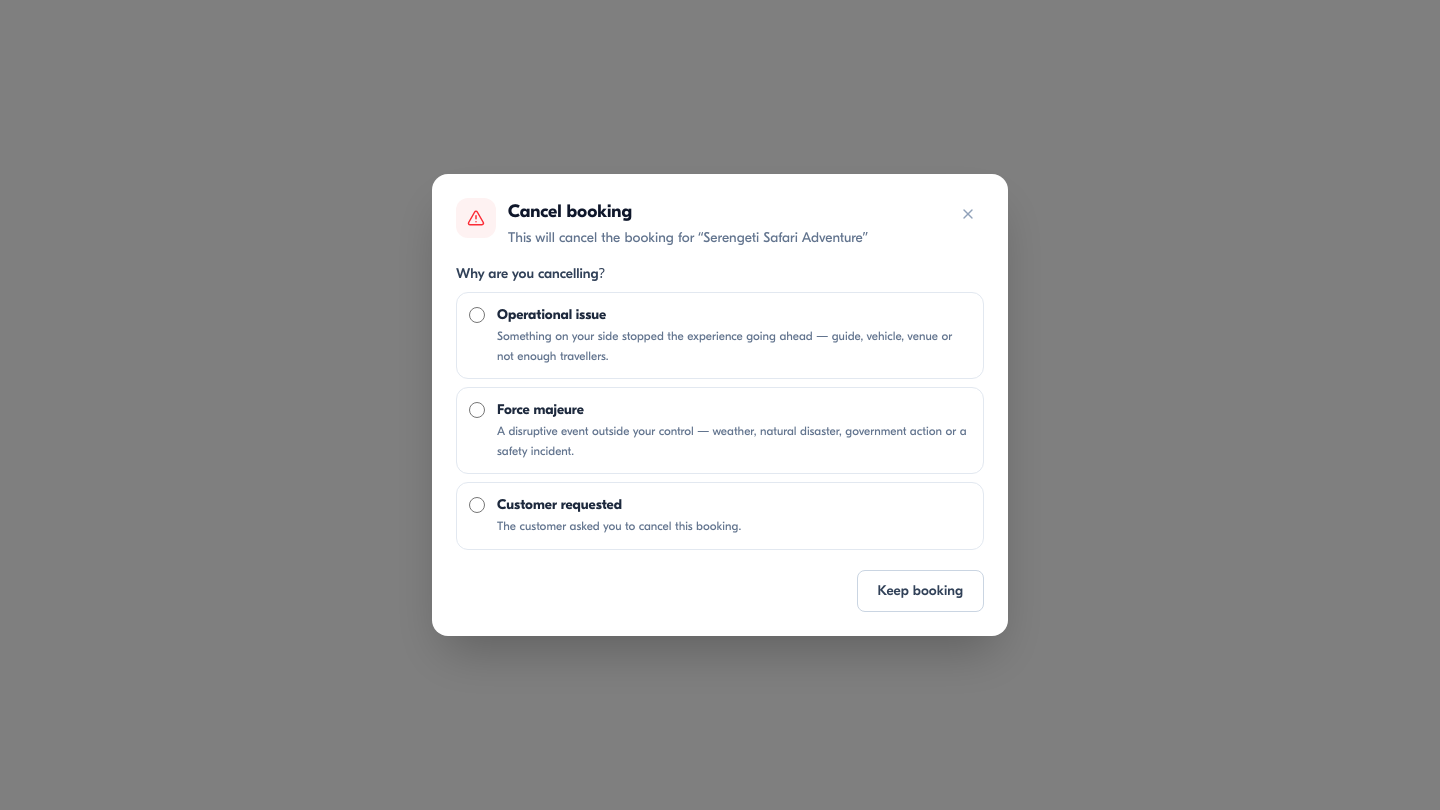
CancelBookingModal — request vs executed › shows the explicit 'submitted for review' screen when the cancel is parked
Expected: the text "Operational issue" is shown, 497,306 -> 606,323
Click the radio button labelled "Operational issue": (477, 315) 469,307 -> 485,323
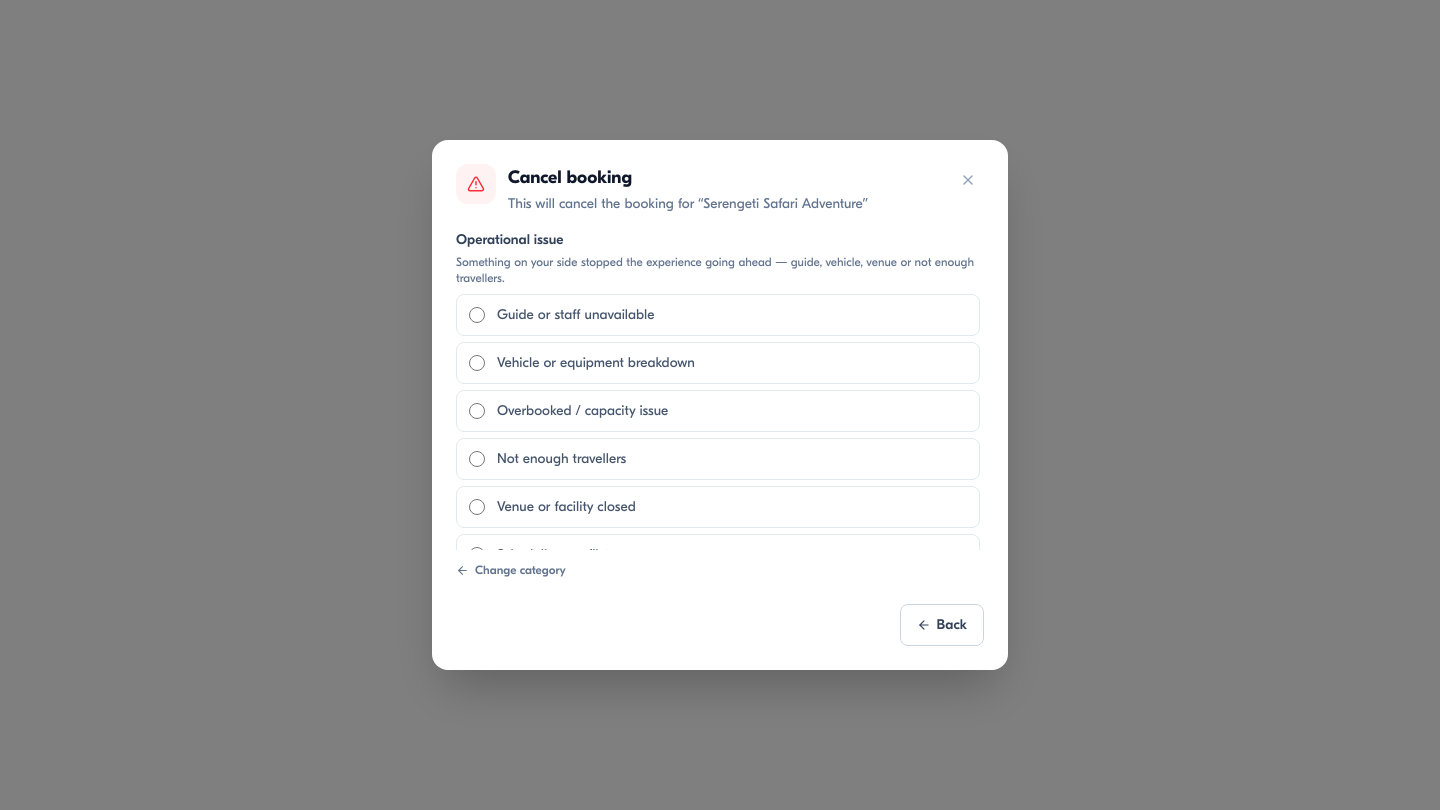
Click the radio button labelled "Guide or staff unavailable": (477, 315) 469,307 -> 485,323
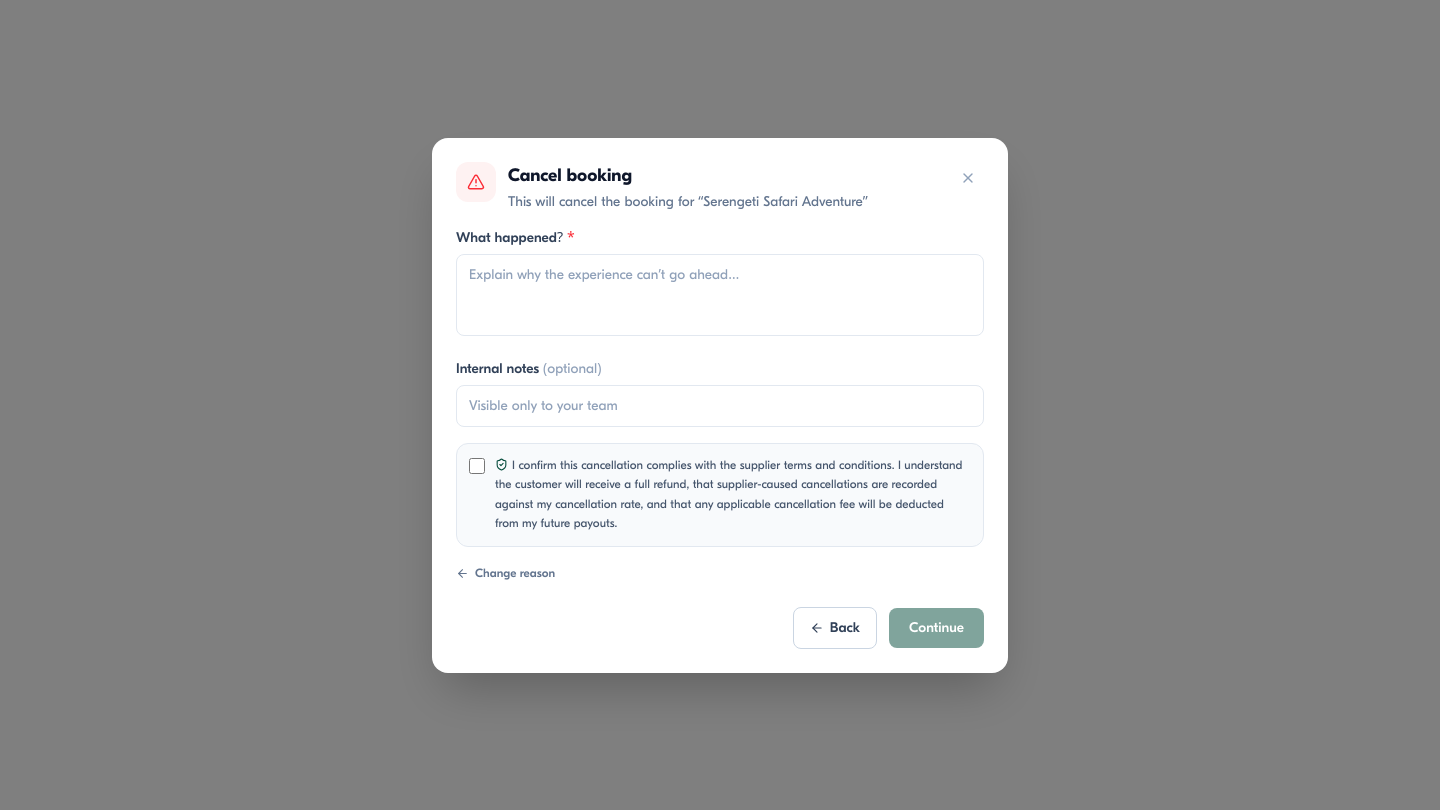
In the text box labelled "What happened? *": (720, 294) 456,254 -> 984,336, type "Our guide fell ill and no replacement was available."
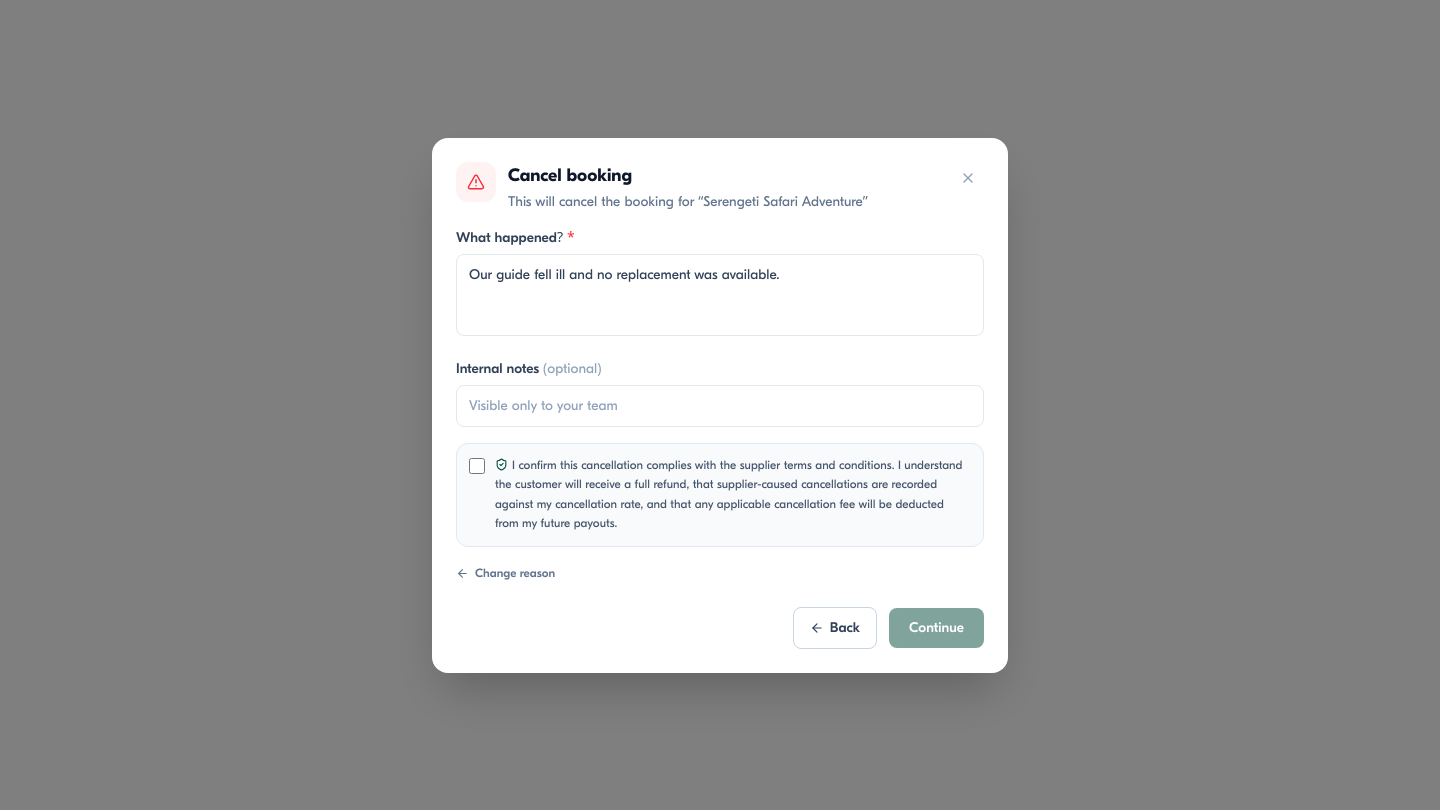
Click the checkbox: (477, 466) 469,458 -> 485,474
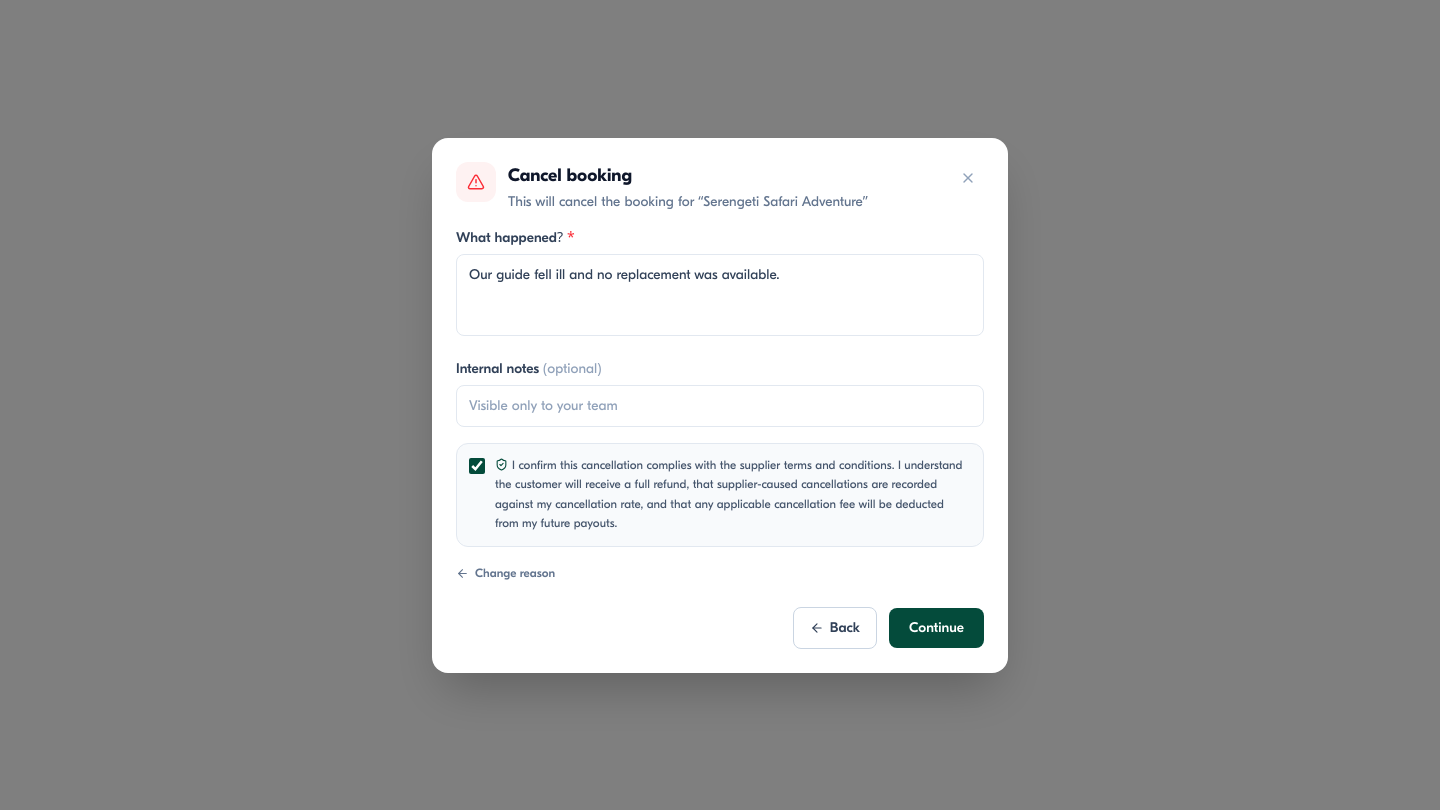
Click the button "Continue": (937, 628) 889,608 -> 984,648
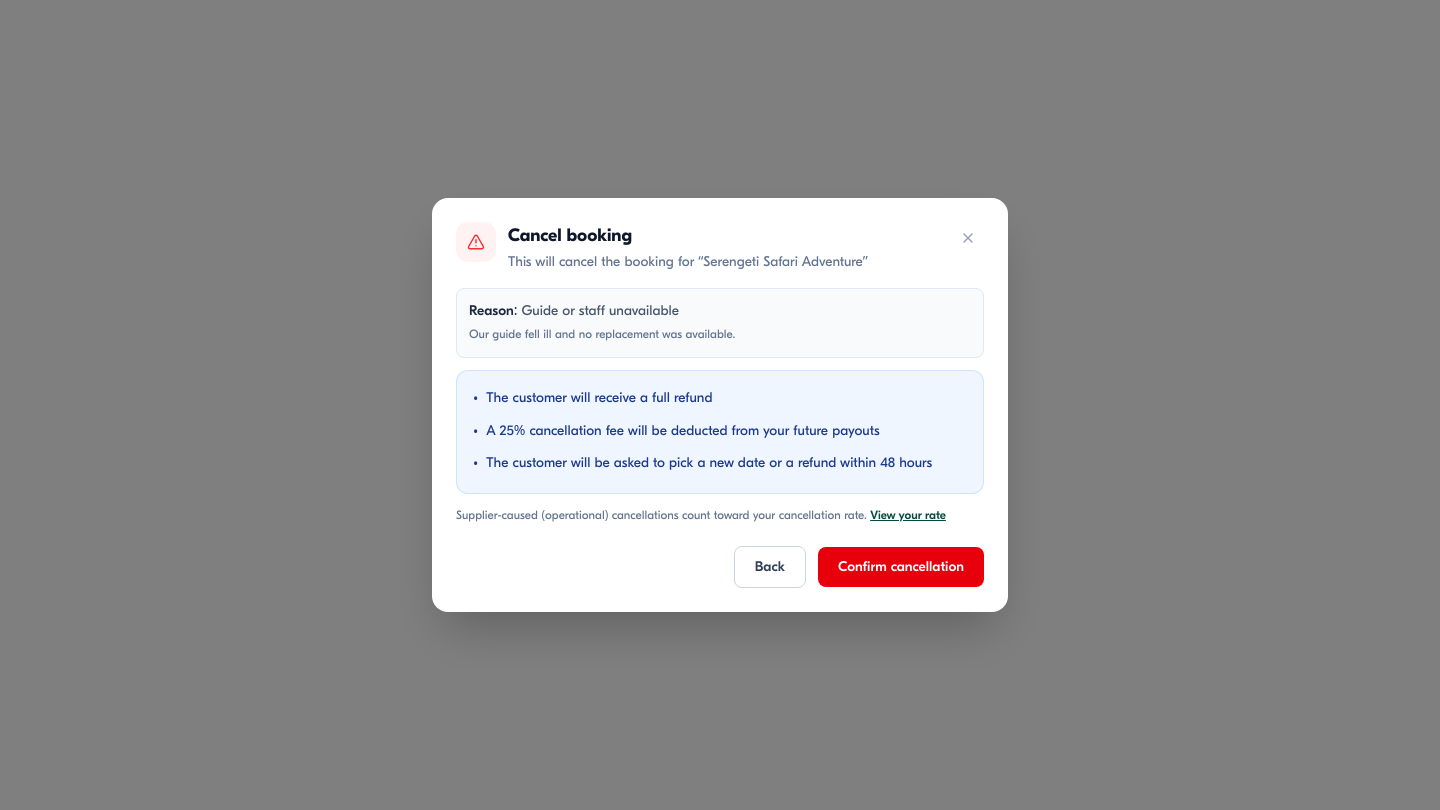
Result: the button "Confirm cancellation" is shown
Click the button "Confirm cancellation": (901, 567) 818,547 -> 984,587
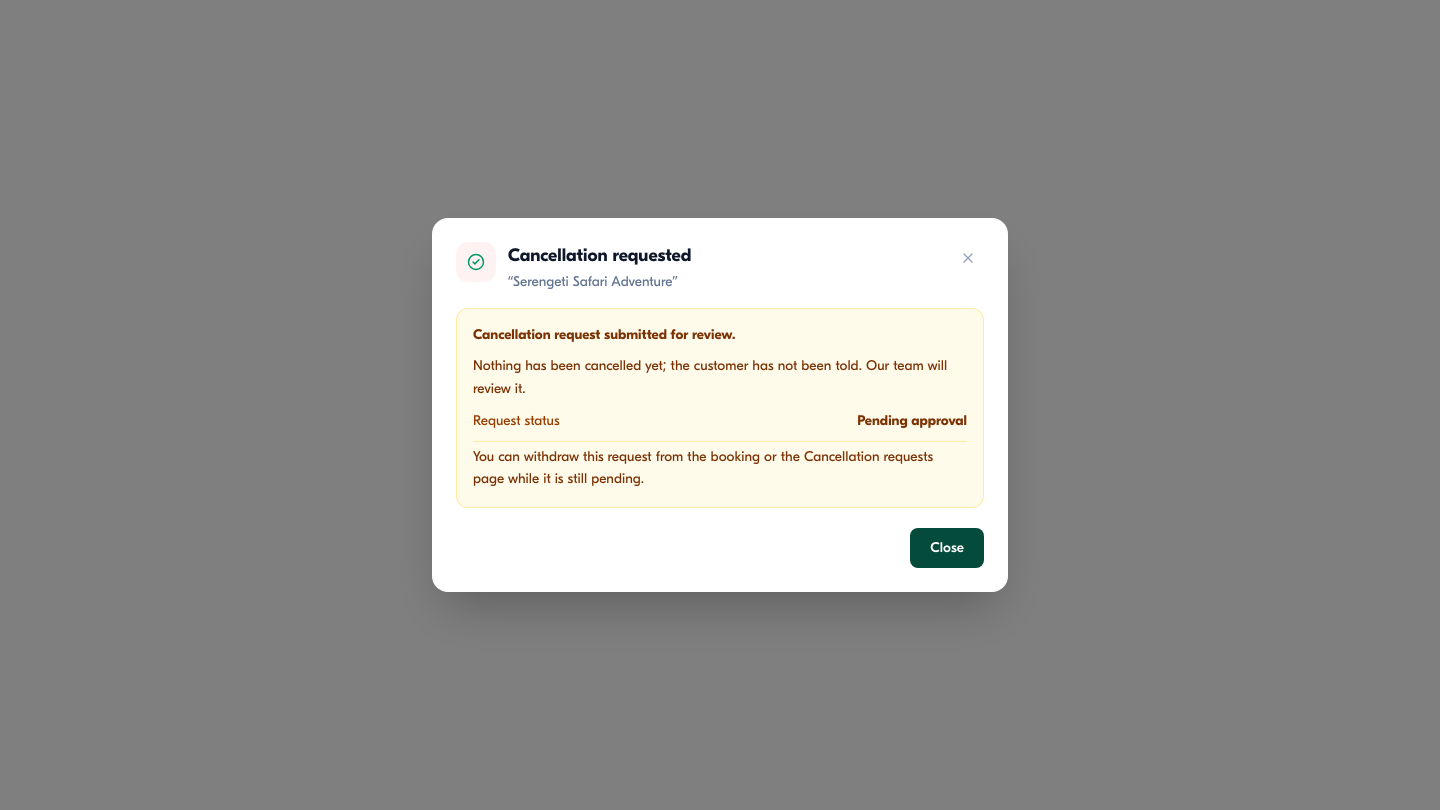
Result: the text "Cancellation request submitted for review." is shown at 473,326 -> 735,343
Result: the text "Nothing has been cancelled yet; the customer has not been told" is shown at 473,357 -> 947,397
Result: the text "Pending approval" is shown at 857,410 -> 967,430
